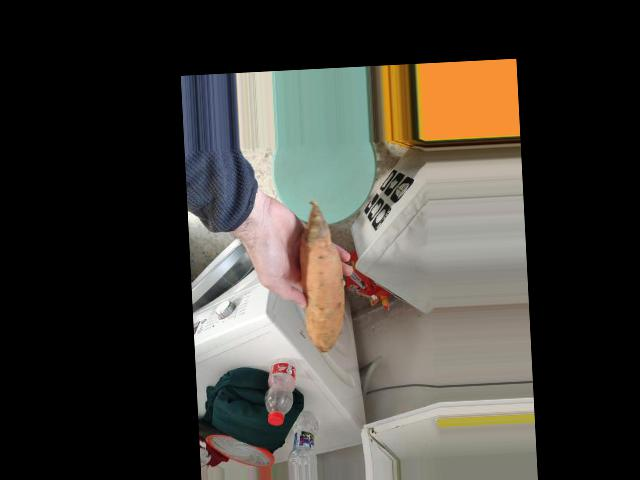sweet_potato: (289, 230, 340, 336)
